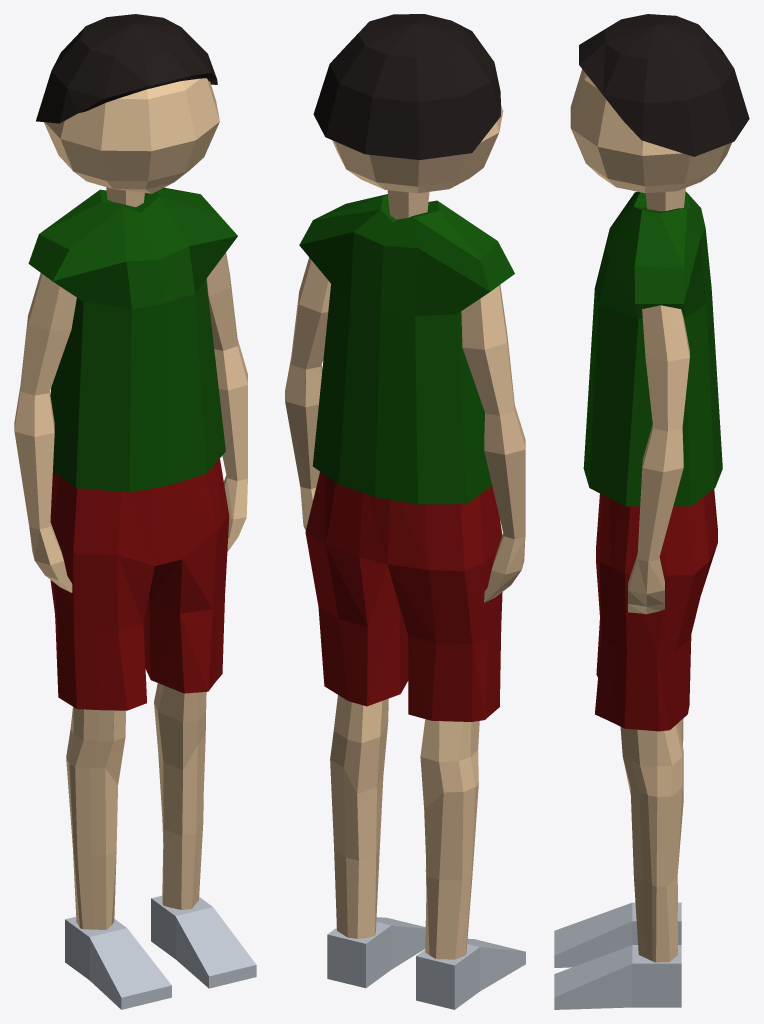
The model's file is Person1.FBX.
3 renders of one model, left to right at view 1: azimuth 30°, elevation 25°; view 2: azimuth 150°, elevation 25°; view 3: azimuth 270°, elevation 25°, orthographic. The views are drawn at different scales.
Parts seen in each view (by area): view 1: Box011, Box021, Box010, Cylinder007, Sphere005, Sphere006, Box009, Box012; view 2: Box011, Box021, Box010, Sphere006, Cylinder007, Sphere005, Box009, Box012, Cylinder008; view 3: Box011, Box021, Sphere006, Box010, Cylinder007, Sphere005, Box012, Box009, Cylinder008.
Boxes of the visible parts, x1,y1,x2,y2 form: Box011: (28, 187, 237, 492); Box021: (50, 459, 229, 710); Box010: (66, 683, 206, 929); Cylinder007: (14, 252, 247, 592); Sphere005: (44, 78, 219, 193); Sphere006: (36, 14, 217, 123); Box009: (65, 916, 171, 1009); Box012: (151, 895, 256, 988); Box011: (299, 194, 514, 504); Box021: (305, 471, 502, 721); Box010: (330, 695, 479, 959); Sphere006: (313, 14, 500, 160); Cylinder007: (285, 257, 525, 602); Sphere005: (332, 105, 503, 193); Box009: (416, 938, 525, 1009); Box012: (327, 917, 425, 988); Cylinder008: (387, 190, 429, 219); Box011: (583, 191, 722, 506); Box021: (595, 489, 717, 731); Sphere006: (579, 14, 749, 156); Box010: (620, 719, 683, 962); Cylinder007: (628, 305, 689, 614); Sphere005: (570, 69, 731, 193); Box012: (554, 945, 681, 1009); Box009: (554, 902, 681, 967); Cylinder008: (645, 188, 685, 211).
Bounding box in the file's own units: 0.8958 × 0.6391 × 3.42.
